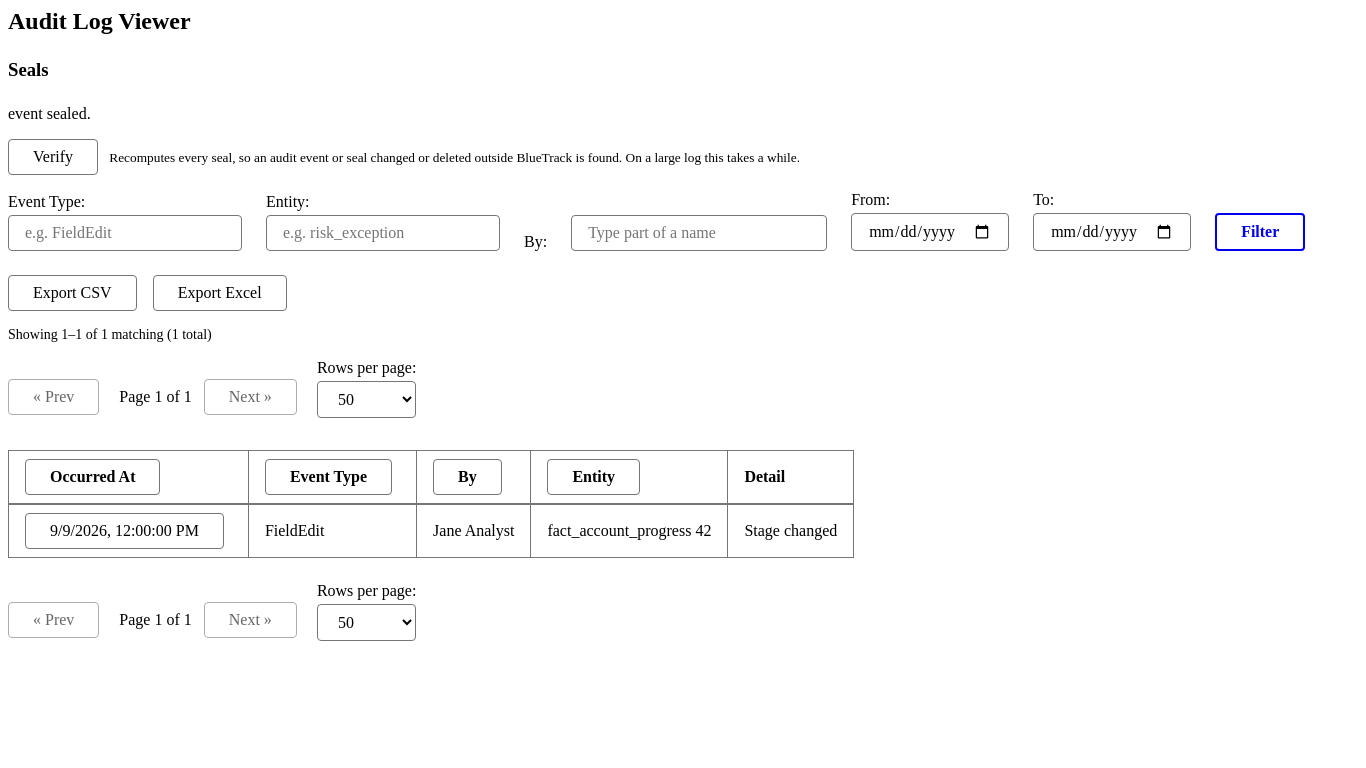
Test case: AuditLogViewer.vue › Export CSV asks the API for every matching event with the applied filters
Step 1. Type "FieldEdit" into the field with placeholder "e.g. FieldEdit" → (125, 233), box x1=8 y1=215 x2=242 y2=251
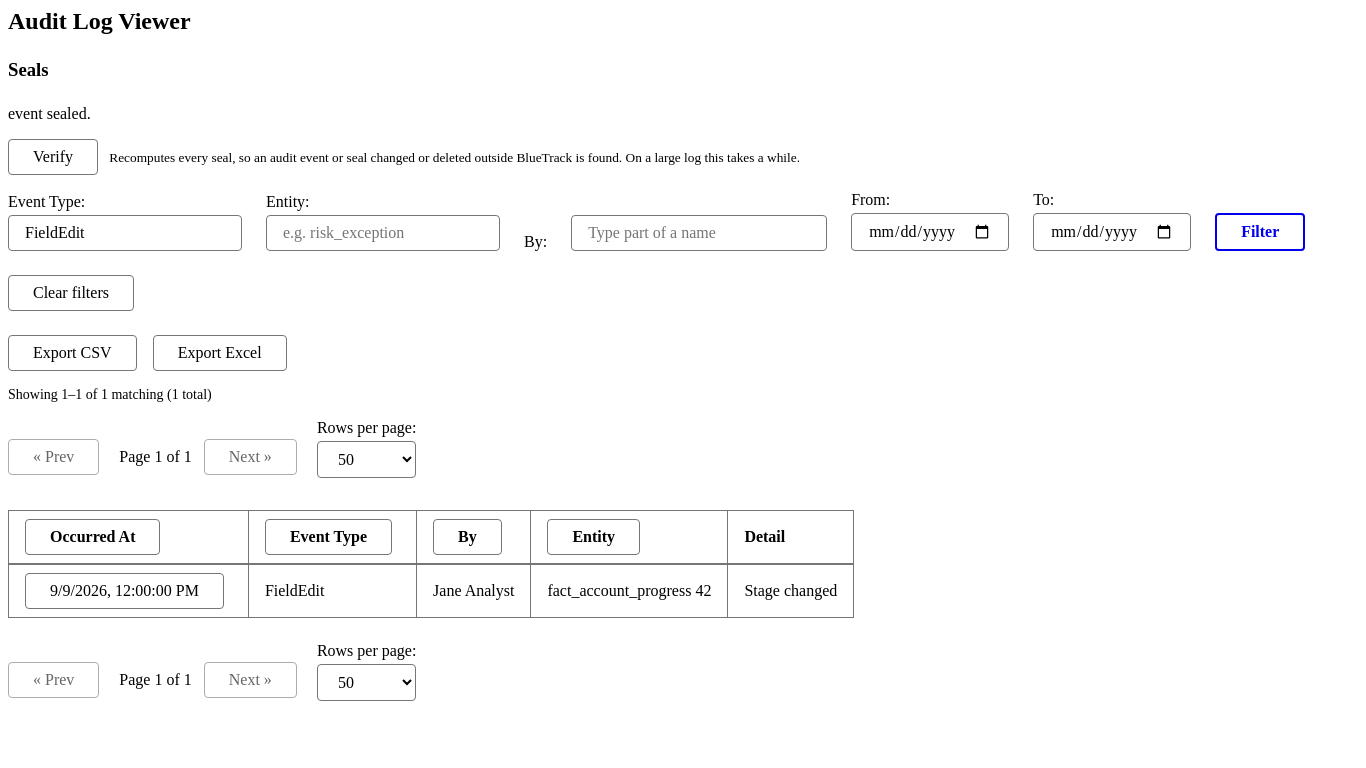
Step 2. Submit the form with class "filter-row", box x1=8 y1=191 x2=1358 y2=311
Step 3. Replace the text in the field with placeholder "e.g. FieldEdit" with "Unsubmitted" → (125, 233), box x1=8 y1=215 x2=242 y2=251
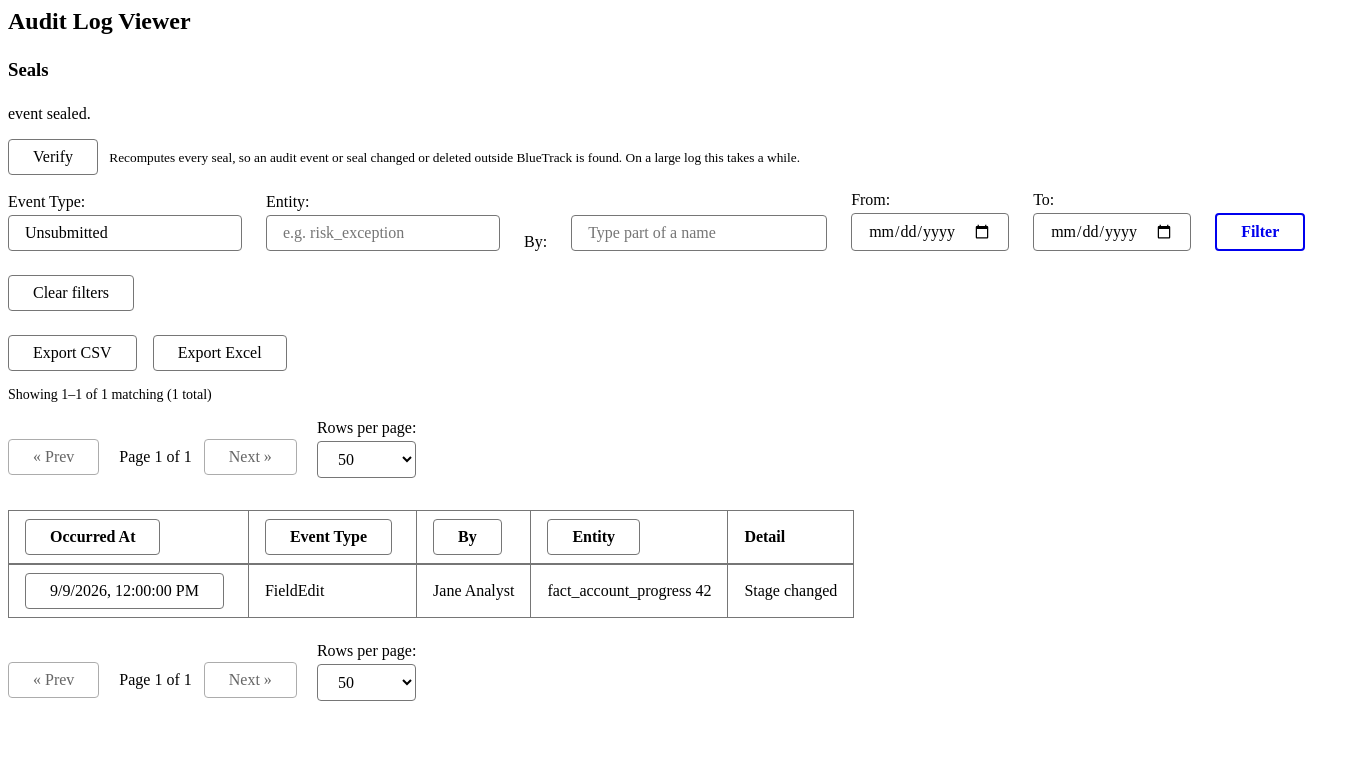
Step 4. Click the button "Export CSV" → (72, 353), box x1=8 y1=335 x2=137 y2=371
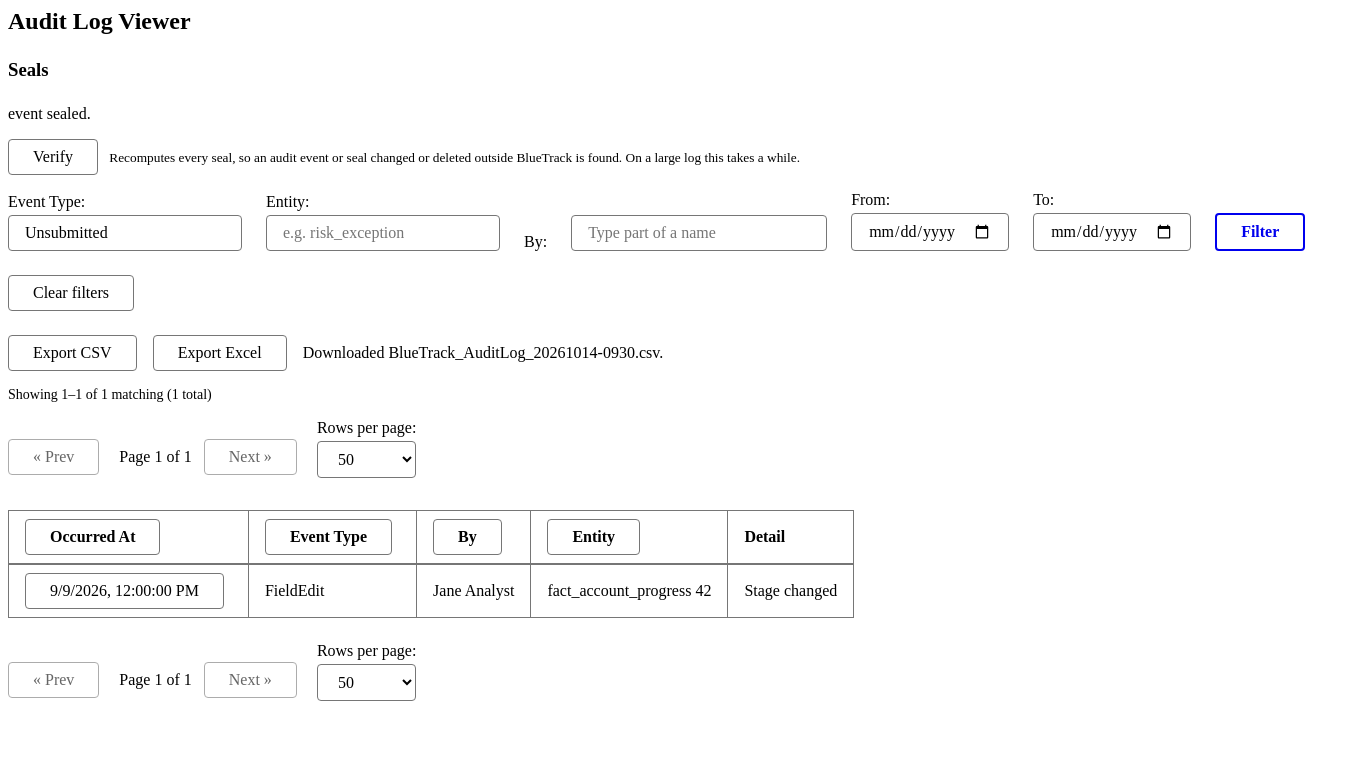
Result: the text "Downloaded BlueTrack_AuditLog_20261014-0930.csv." is shown at x1=303 y1=344 x2=663 y2=362
